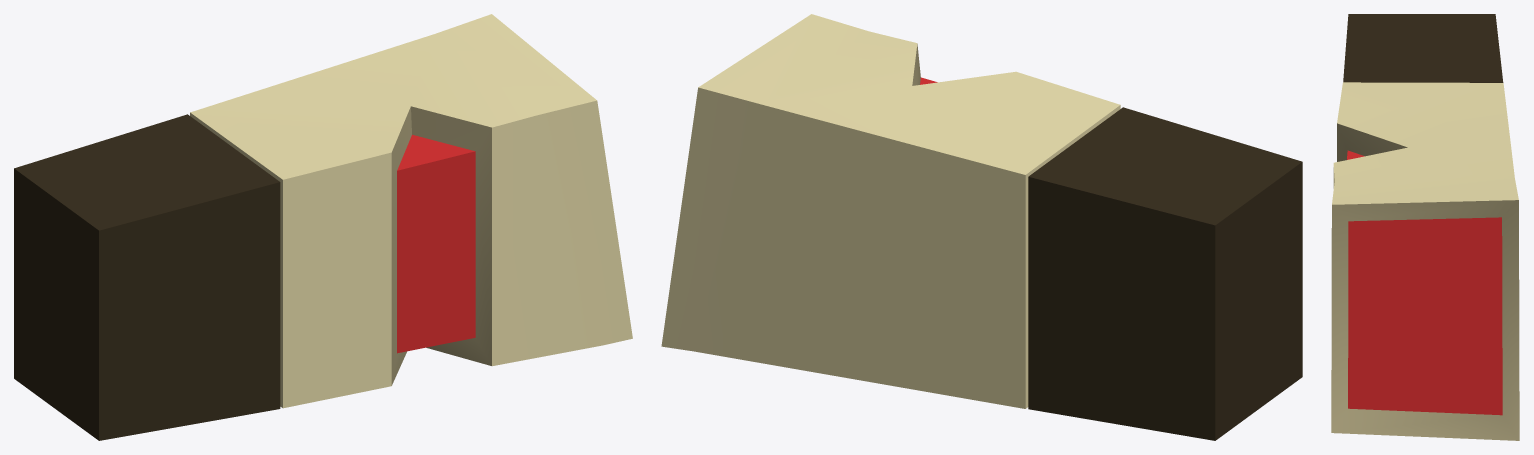
File: FactoryZombie1RightForearm.glb
3 views of the same model, side by side, from view 1: azimuth 30°, elevation 25°; view 2: azimuth 150°, elevation 25°; view 3: azimuth 270°, elevation 25° (orthographic). The views are drawn at different scales.
Visible parts, largest first — view 1: FactoryZombie1RightForearm; view 2: FactoryZombie1RightForearm; view 3: FactoryZombie1RightForearm.
Part boxes in pixels (x1=…): FactoryZombie1RightForearm: x1=14, y1=14, x2=632, y2=440; FactoryZombie1RightForearm: x1=661, y1=14, x2=1302, y2=440; FactoryZombie1RightForearm: x1=1331, y1=14, x2=1519, y2=440.
Size of the model in its own units: 2.21 by 1.05 by 0.7895.
Materials: 1 (1 with a texture image).
